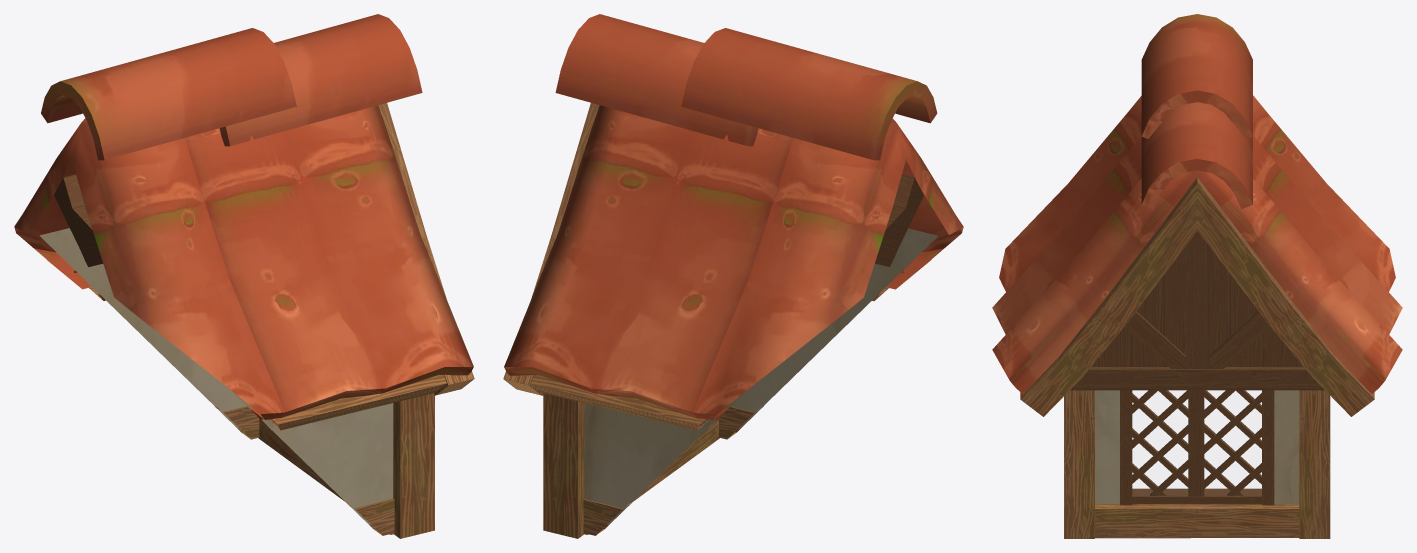
Rendered from Roof_Dormer_RoundTile.glb.
3 renders of one model, left to right at view 1: azimuth 30°, elevation 25°; view 2: azimuth 150°, elevation 25°; view 3: azimuth 270°, elevation 25°, orthographic. The views are drawn at different scales.
Visible parts, largest first — view 1: Roof_Dormer_RoundTile; view 2: Roof_Dormer_RoundTile; view 3: Roof_Dormer_RoundTile.
Boxes of the visible parts, x1,y1,x2,y2 form: Roof_Dormer_RoundTile: (14, 14, 474, 538); Roof_Dormer_RoundTile: (503, 14, 963, 538); Roof_Dormer_RoundTile: (992, 14, 1402, 538).
Bounding box in the file's own units: 1.97 × 2.67 × 2.44.
4 materials, 3 textured.
